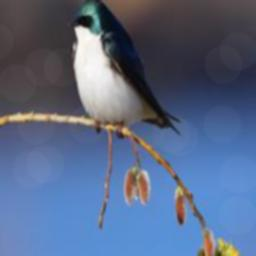Swallow: (66, 0, 182, 135)
